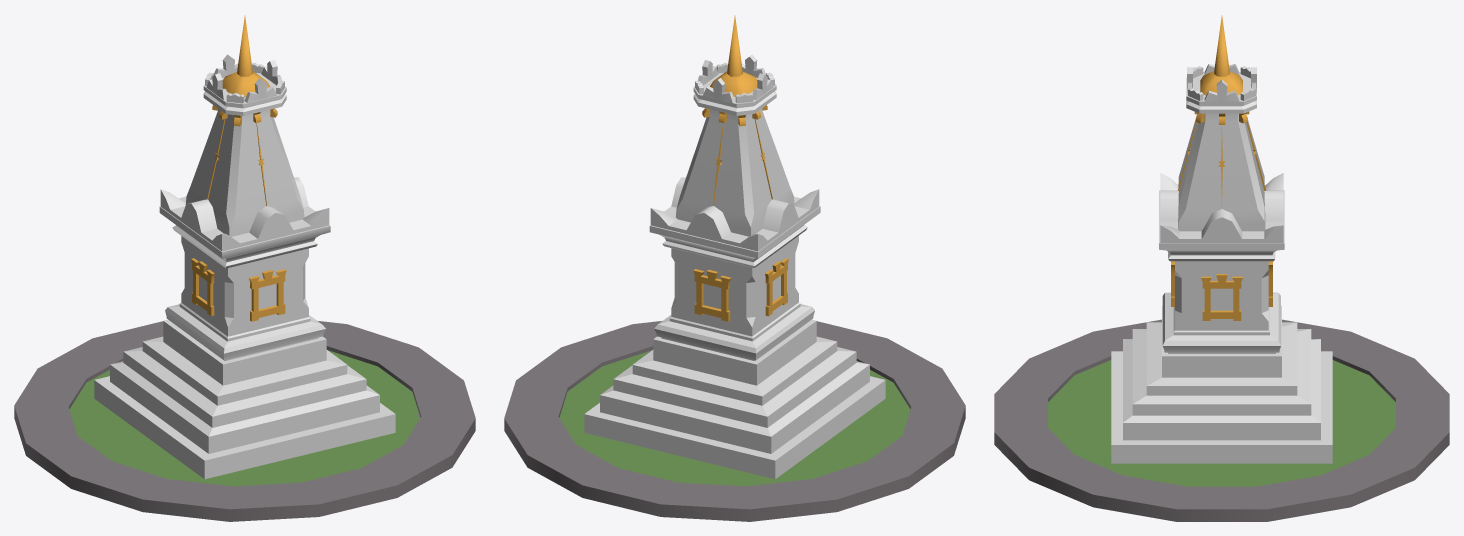
Rendered from Tugu.fbx.
3 views of the same model, side by side, from view 1: azimuth 30°, elevation 25°; view 2: azimuth 150°, elevation 25°; view 3: azimuth 270°, elevation 25° (orthographic).
Visible parts, largest first — view 1: Tugu; view 2: Tugu; view 3: Tugu.
Boxes of the visible parts, bbox=[...] form: Tugu: bbox=[14, 15, 475, 521]; Tugu: bbox=[504, 15, 965, 521]; Tugu: bbox=[994, 15, 1449, 521].
Bounding box in the file's own units: 499 × 498 × 499.
Materials: 1 (1 with a texture image).
